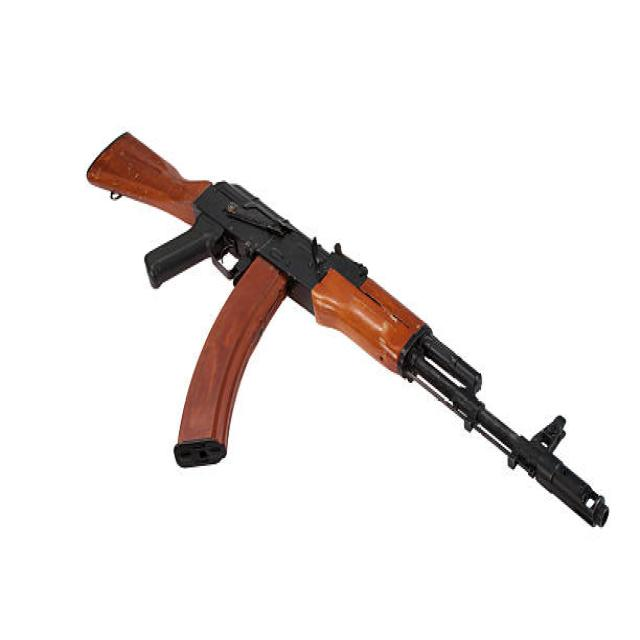rifle: (84, 114, 621, 539)
